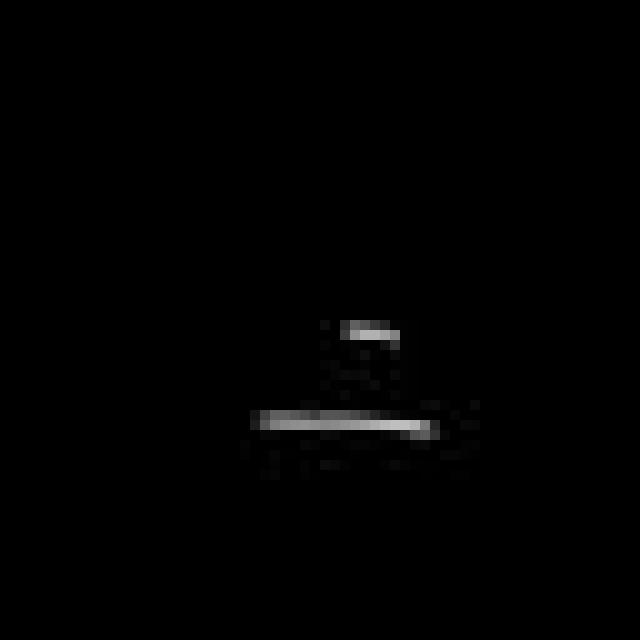2 -two-: (245, 302, 446, 453)
